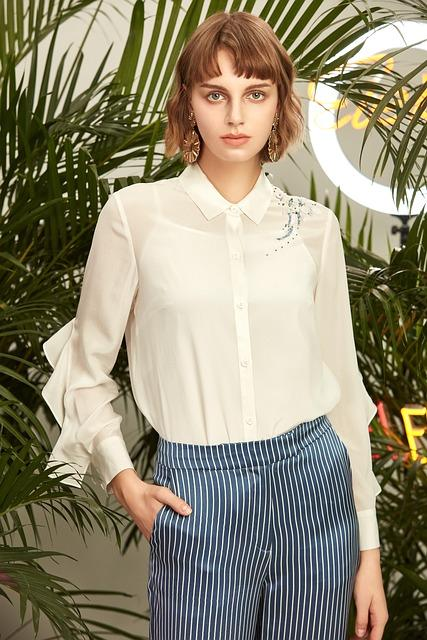Non_Gorille: (3, 0, 427, 640)
